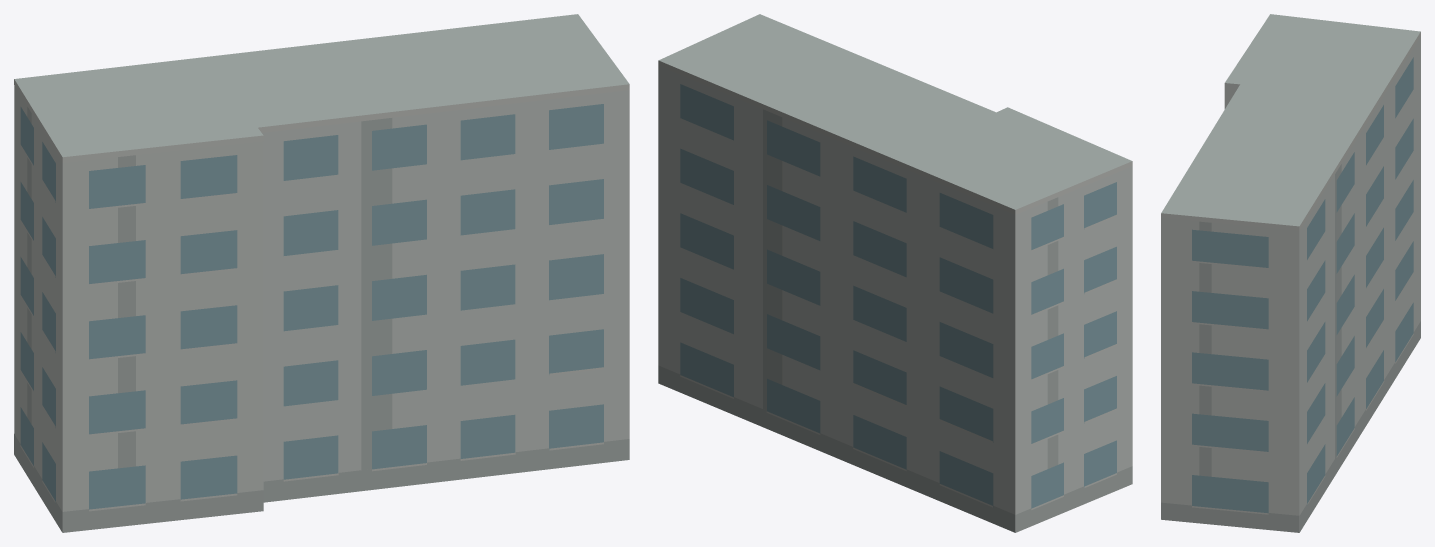
Rendered from survey-upis-32789891.glb.
3 renders of one model, left to right at view 1: azimuth 30°, elevation 25°; view 2: azimuth 150°, elevation 25°; view 3: azimuth 270°, elevation 25°, orthographic. The views are drawn at different scales.
Parts seen in each view (by area): view 1: survey-upis-32789891.tmp; view 2: survey-upis-32789891.tmp; view 3: survey-upis-32789891.tmp.
Boxes of the visible parts, bbox=[...] form: survey-upis-32789891.tmp: bbox=[14, 14, 629, 532]; survey-upis-32789891.tmp: bbox=[658, 14, 1132, 532]; survey-upis-32789891.tmp: bbox=[1161, 14, 1420, 532].
Bounding box in the file's own units: 23.19 × 15.6 × 11.99.
